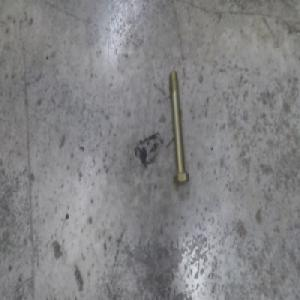Bolt: (168, 68, 189, 184)
